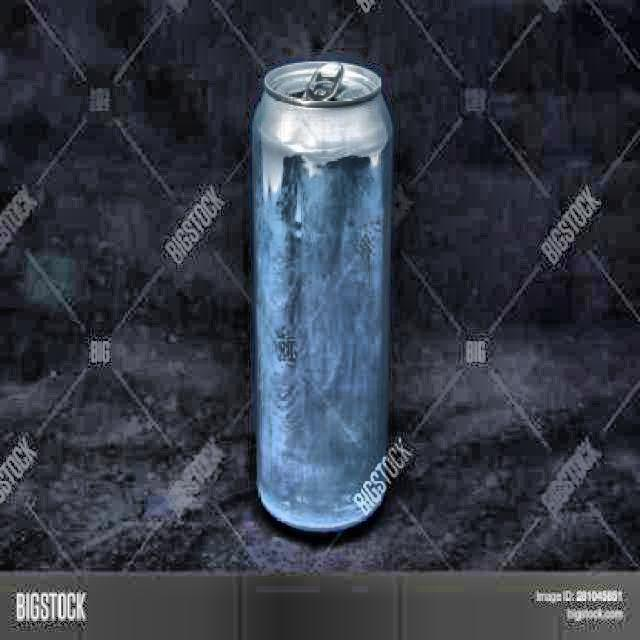can: (246, 51, 395, 539)
